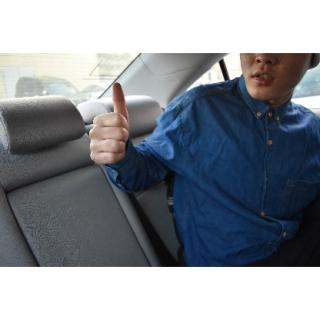ALIF: (88, 81, 132, 172)
